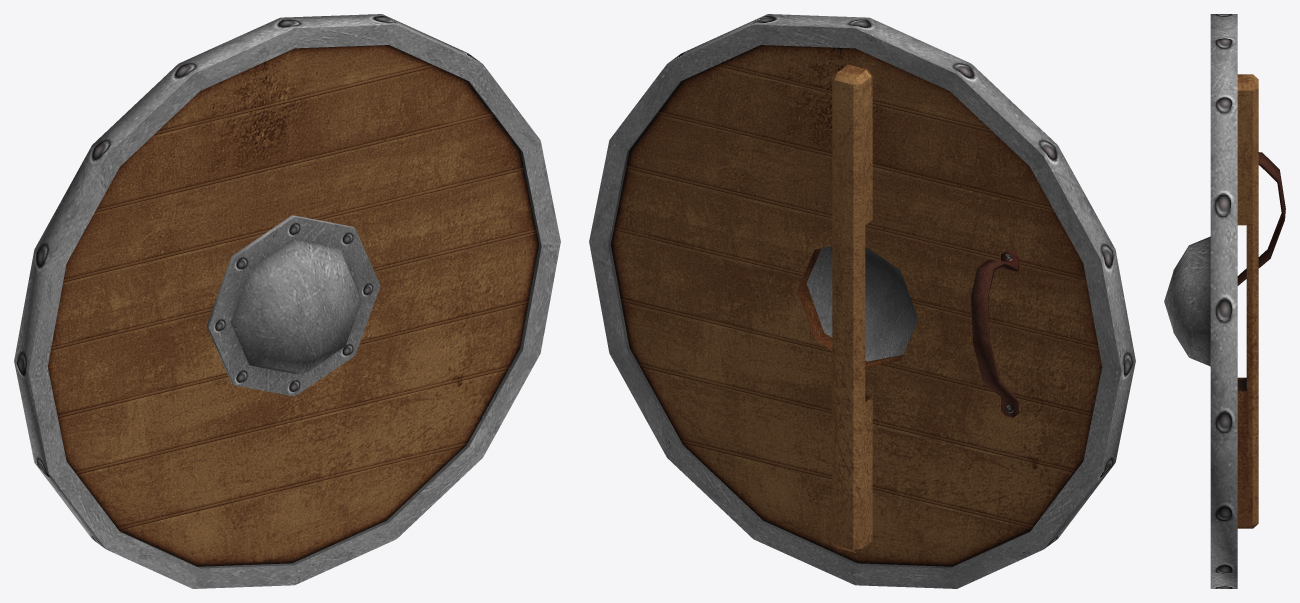
Rendered from SA_LD_Wooden_Shield.obj.
3 renders of one model, left to right at view 1: azimuth 30°, elevation 25°; view 2: azimuth 150°, elevation 25°; view 3: azimuth 270°, elevation 25°, orthographic. The views are drawn at different scales.
Parts seen in each view (by area): view 1: Shield; view 2: Shield; view 3: Shield.
Part boxes in pixels (x1,y1,x2,y2): Shield: (14,14,560,588); Shield: (589,14,1135,588); Shield: (1164,14,1285,588).
Size of the model in its own units: 1.76 by 1.76 by 0.3727.
Materials: 1 (1 with a texture image).
